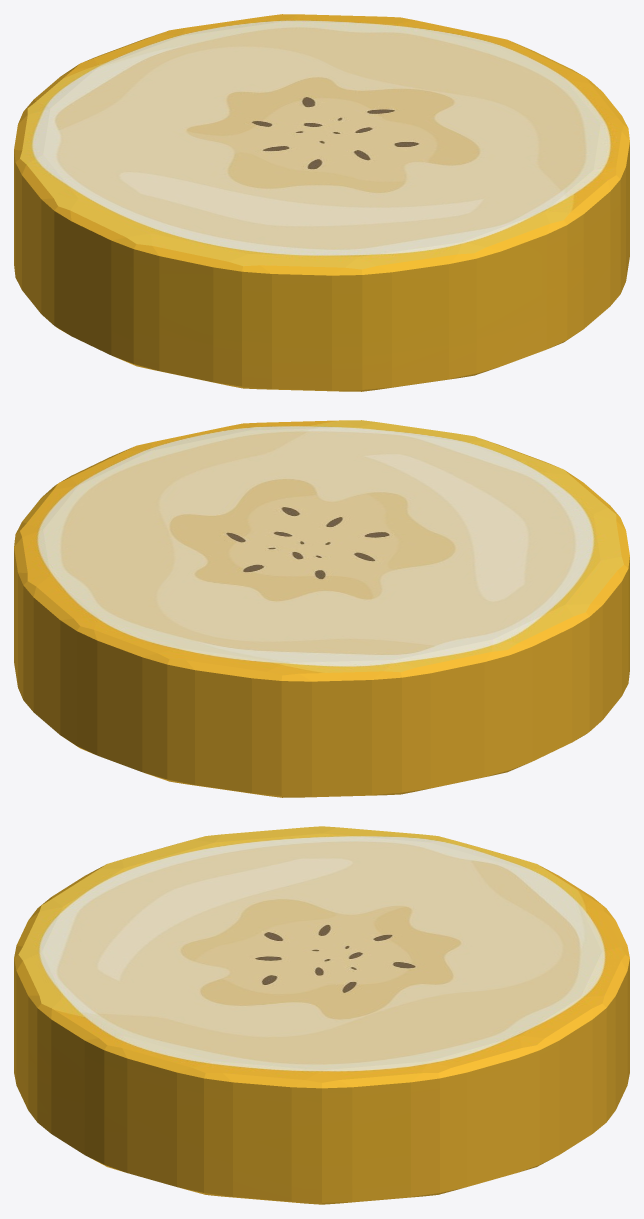
The model's file is yellow_banana.fbx.
The picture shows the model from 3 angles, top to bottom: view 1: azimuth 30°, elevation 25°; view 2: azimuth 150°, elevation 25°; view 3: azimuth 270°, elevation 25°; orthographic projection.
Visible parts, largest first — view 1: Cylinder; view 2: Cylinder; view 3: Cylinder.
Boxes of the visible parts, left/top/right/bottom form: Cylinder: left=14, top=14, right=629, bottom=391; Cylinder: left=14, top=420, right=629, bottom=797; Cylinder: left=14, top=826, right=629, bottom=1204.
Size of the model in its own units: 39.04 by 8.89 by 39.04.
